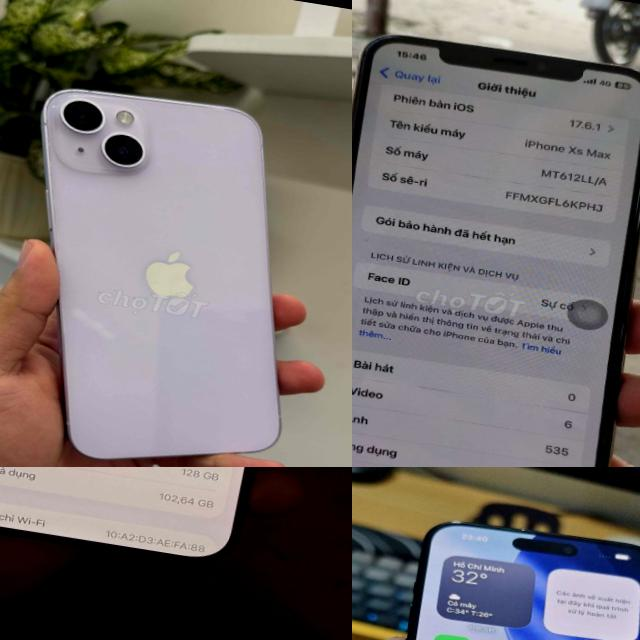scratch: (514, 524, 531, 536), (446, 517, 466, 527)
